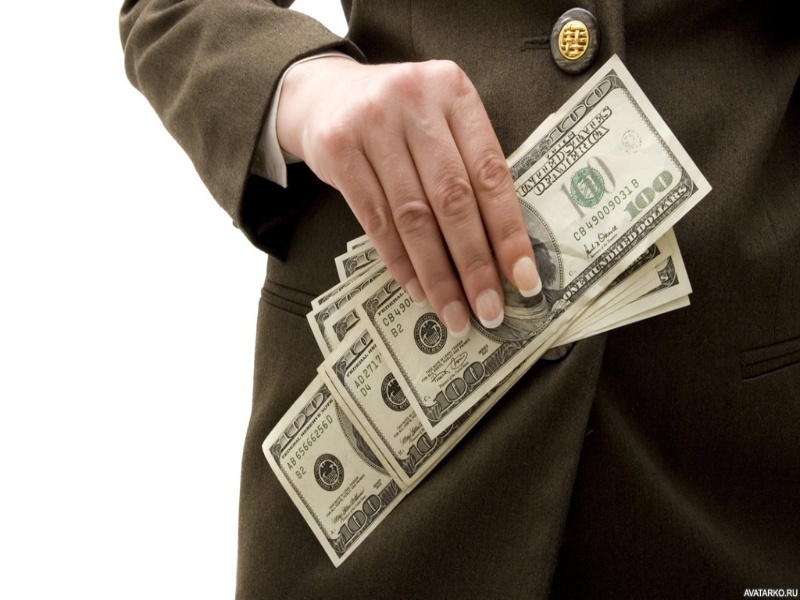cash: (259, 54, 711, 567)
person: (119, 1, 800, 600)
